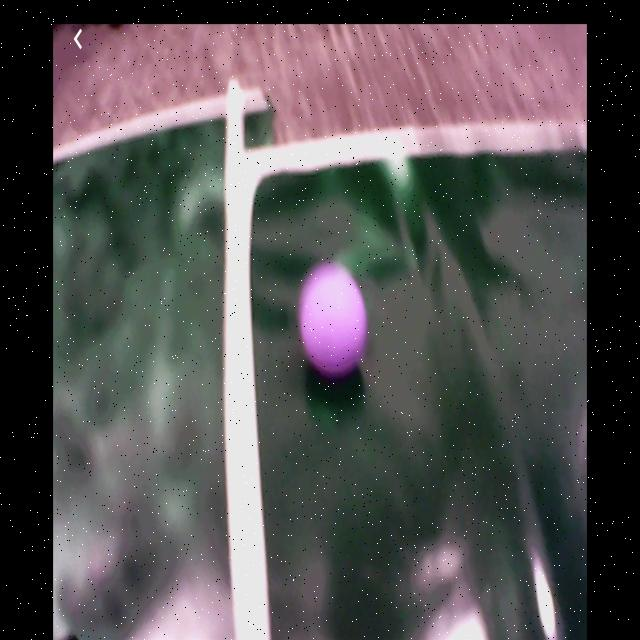ball: (301, 264, 368, 374)
